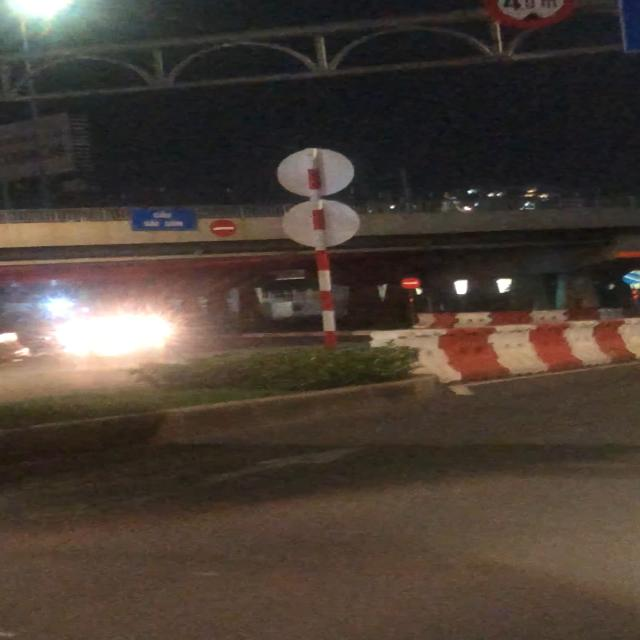Bien bao cam di nguoc chieu: (209, 218, 241, 238), (398, 274, 423, 290)
